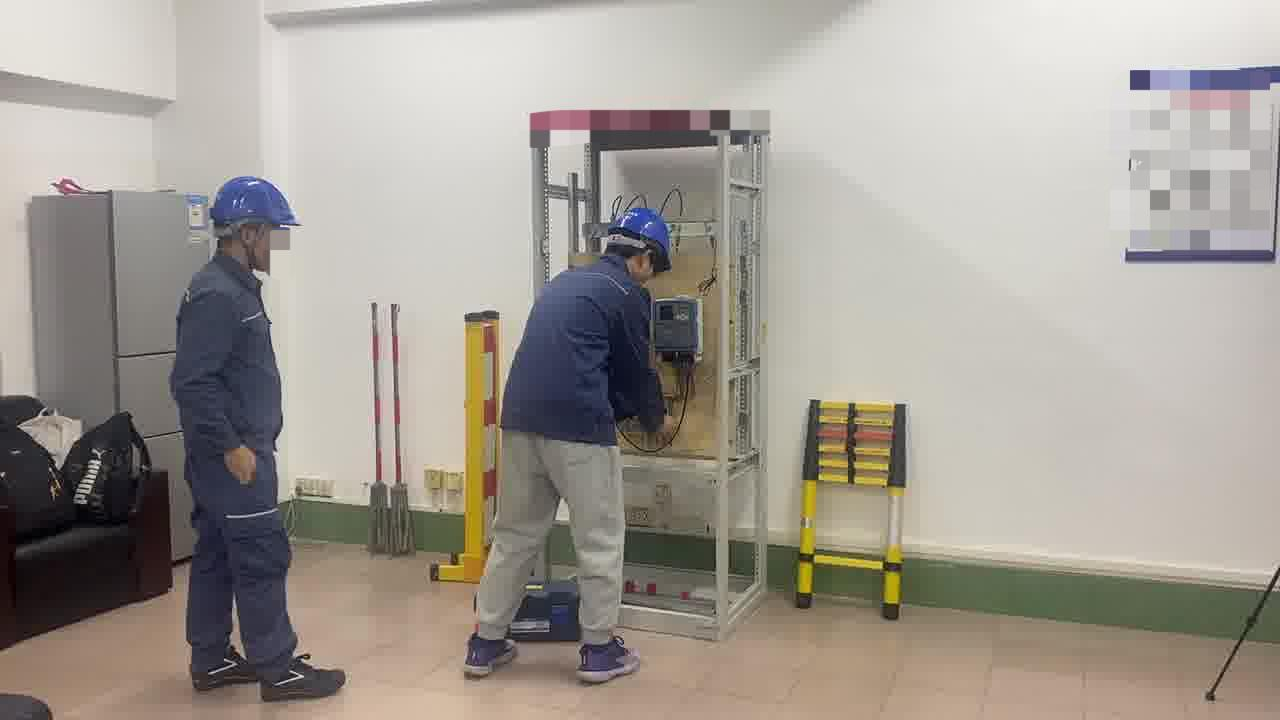halt: (209, 178, 302, 274), (606, 209, 676, 283)
inear: (233, 221, 269, 263)
noear: (632, 247, 658, 281)
